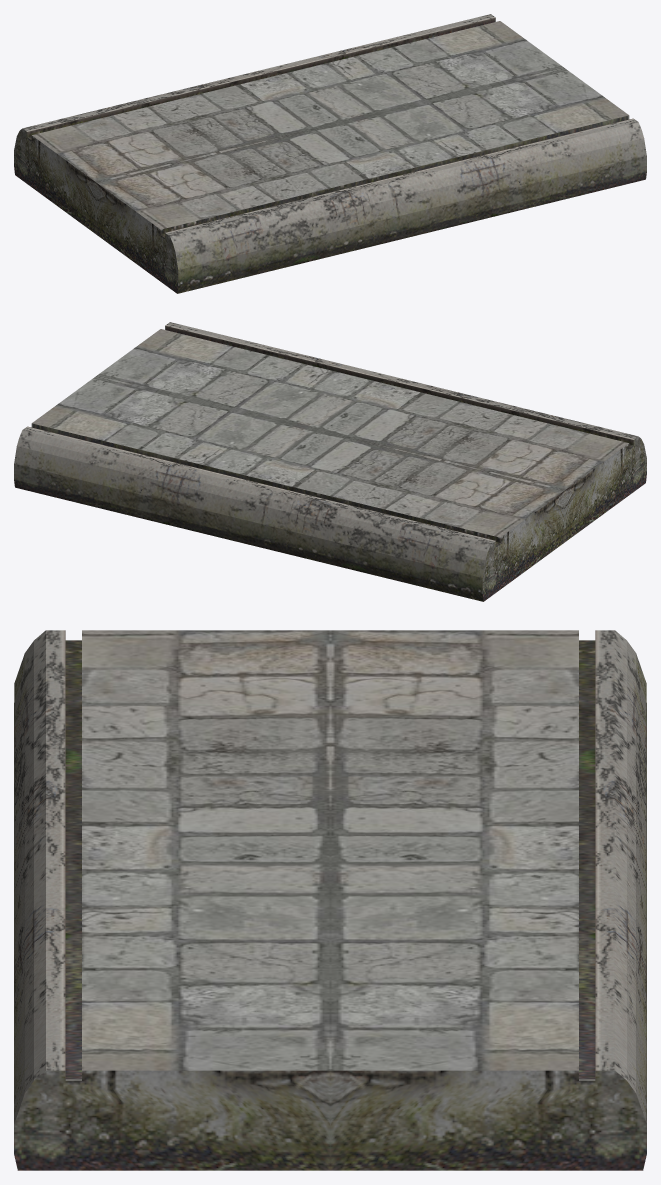
Rendered from PavementPieces07.fbx.
3 views of the same model, one above another, from view 1: azimuth 30°, elevation 25°; view 2: azimuth 150°, elevation 25°; view 3: azimuth 270°, elevation 25° (orthographic). The views are drawn at different scales.
Parts seen in each view (by area): view 1: PavementPieces07; view 2: PavementPieces07; view 3: PavementPieces07.
Boxes of the visible parts, x1,y1,x2,y2 form: PavementPieces07: (14,14,646,293); PavementPieces07: (14,322,646,601); PavementPieces07: (14,630,646,1170).
Bounding box in the file's own units: 128 × 13.59 × 77.76.
